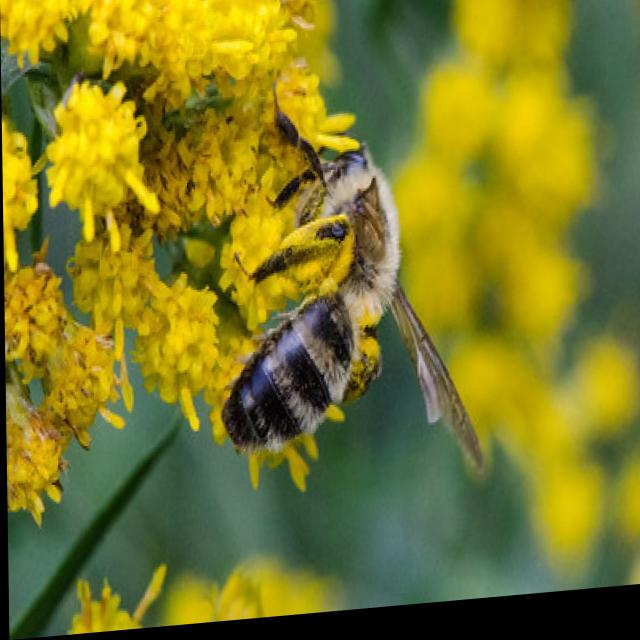Abeille: (216, 73, 498, 539)
